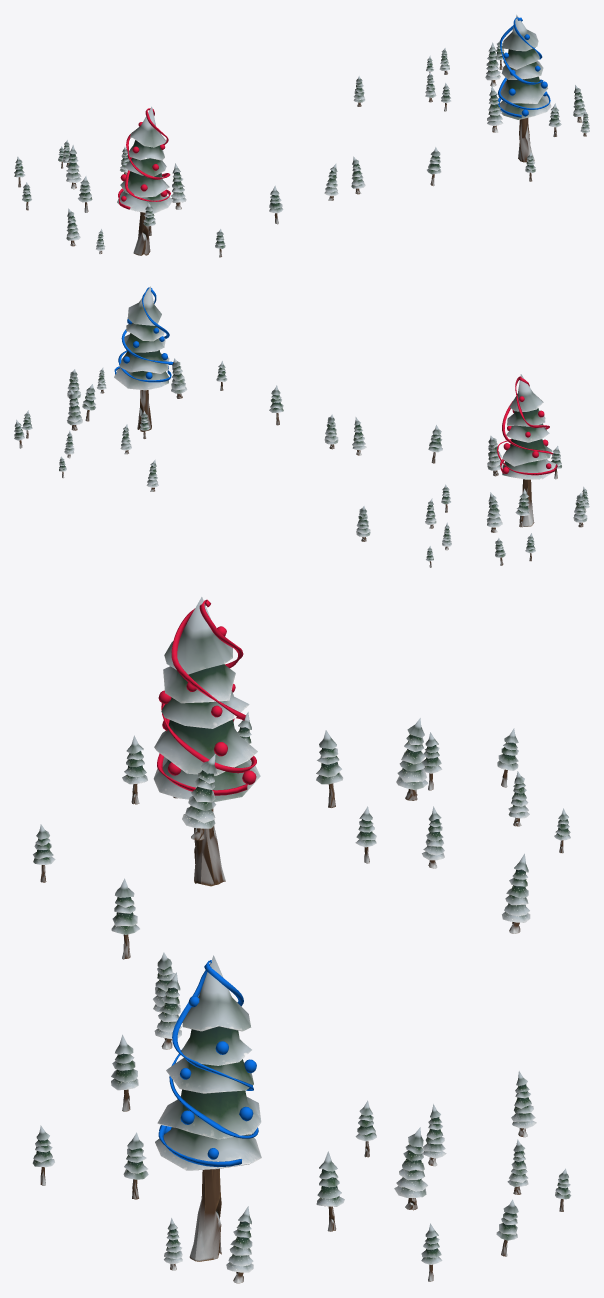
File: treesStatic.glb
3 views of the same model, one above another, from view 1: azimuth 30°, elevation 25°; view 2: azimuth 150°, elevation 25°; view 3: azimuth 270°, elevation 25° (orthographic). The views are drawn at different scales.
Visible parts, largest first — view 1: leaves4.034, leaves4.033, leaves.034, leaves3.033, leaves.033, leaves3.034, leaves5.033, leaves6.034, treeTrunk.034, leaves5.034, treeTrunk.033, leaves6.033 (+2 smaller); view 2: leaves4.033, leaves4.034, leaves3.034, leaves.034, leaves3.033, leaves.033, leaves5.033, leaves5.034, leaves6.033, leaves6.034, BezierCurve.001, BezierCurve.002; view 3: leaves4.034, leaves4.033, leaves3.034, leaves.033, leaves.034, treeTrunk.034, leaves6.033, leaves5.034, leaves6.034, leaves3.033, leaves5.033, treeTrunk.033 (+4 smaller).
Boxes of the visible parts, x1,y1,x2,y2 form: leaves4.034: (498,76,547,104); leaves4.033: (120,171,169,197); leaves.034: (502,14,538,51); leaves3.033: (117,191,173,213); leaves.033: (130,106,166,147); leaves3.034: (498,95,551,119); leaves5.033: (125,158,166,176); leaves6.034: (503,48,539,69); treeTrunk.034: (518,118,534,162); leaves5.034: (501,61,543,79); treeTrunk.033: (133,212,150,255); leaves6.033: (128,140,164,160); leaves4.033: (502,438,552,466); leaves4.034: (119,350,169,373); leaves3.034: (114,368,168,390); leaves.034: (127,286,161,325); leaves3.033: (502,459,557,479); leaves.033: (509,374,543,411); leaves5.033: (506,423,549,442); leaves5.034: (124,333,165,352); leaves6.033: (507,408,545,426); leaves6.034: (126,323,164,341); BezierCurve.001: (497,376,557,475); BezierCurve.002: (118,287,171,382); leaves4.034: (157,1089,261,1139); leaves4.033: (154,719,257,775); leaves3.034: (155,1127,261,1170); leaves.033: (164,597,232,674); leaves.034: (182,955,251,1031); treeTrunk.034: (189,1168,221,1261); leaves6.033: (163,664,235,703); leaves5.034: (166,1057,253,1093); leaves6.034: (181,1026,251,1065); leaves3.033: (153,757,260,802); leaves5.033: (161,691,249,728); treeTrunk.033: (194,808,225,886).
Bounding box in the file's own units: 135 × 36.54 × 60.74.
Materials: 4 (2 with a texture image).
